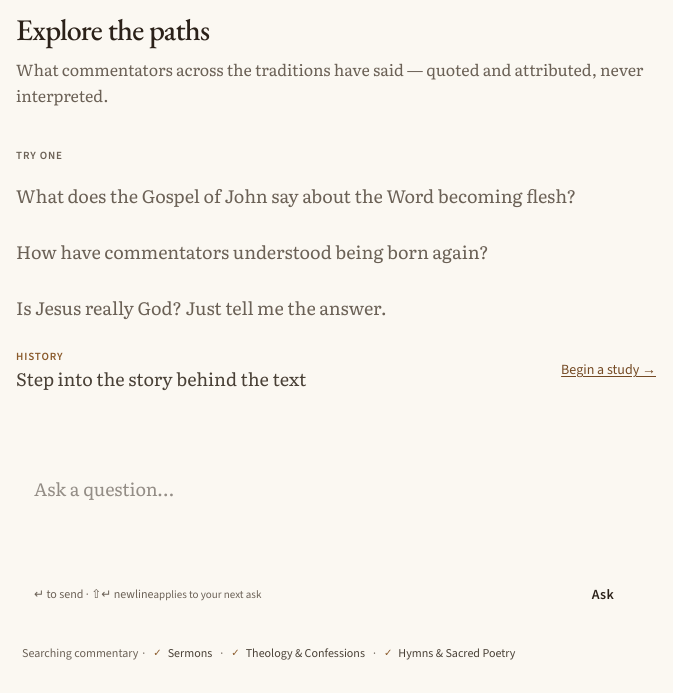
Test: L1 — a stream that ends without a terminal event still resolves › a truncated stream lands in the failure state with a retry, not a permanent spinner
Type "What is grace?" into the text box with placeholder "Ask a question…" at coordinates (336, 517), box [28,472,644,562]
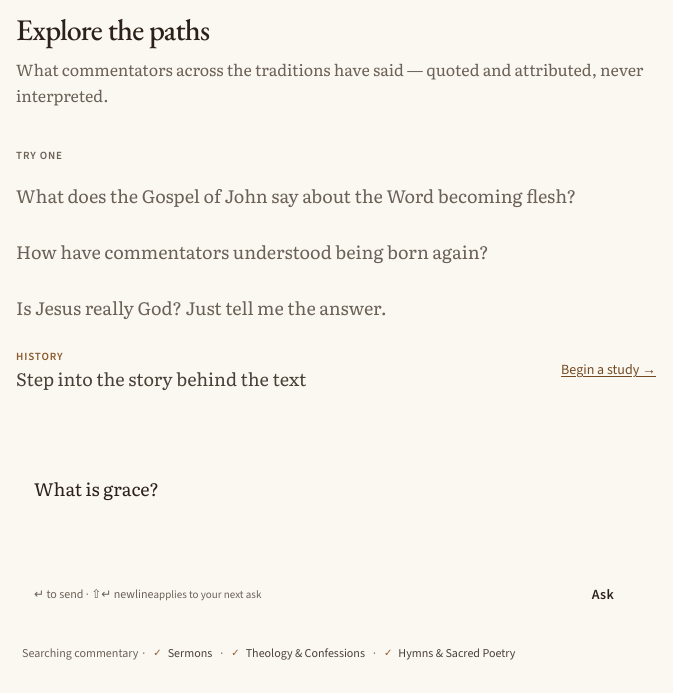
Submit the form with placeholder "Ask a question", box [16,460,656,677]
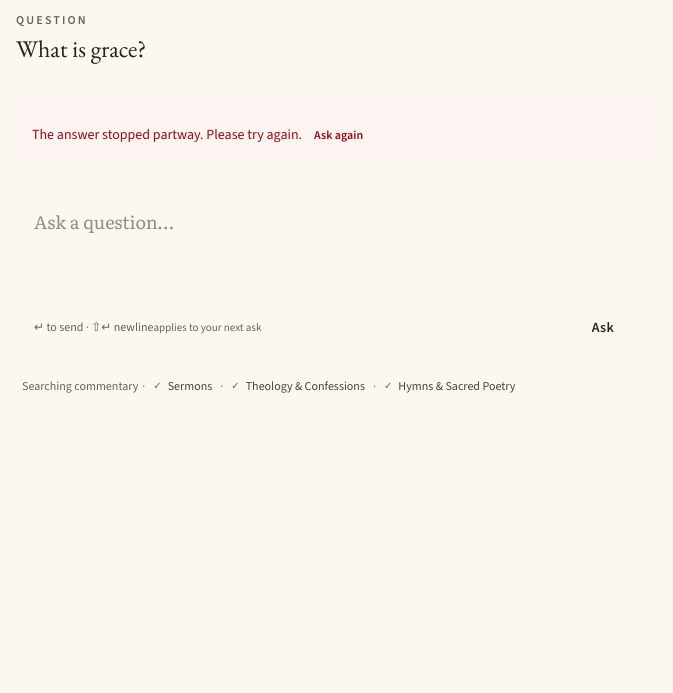
Expected: the button "Ask again" is shown, [302,113,375,157]
Expected: the message "The answer stopped partway. Please try again. Ask again" is shown, [16,89,656,169]
